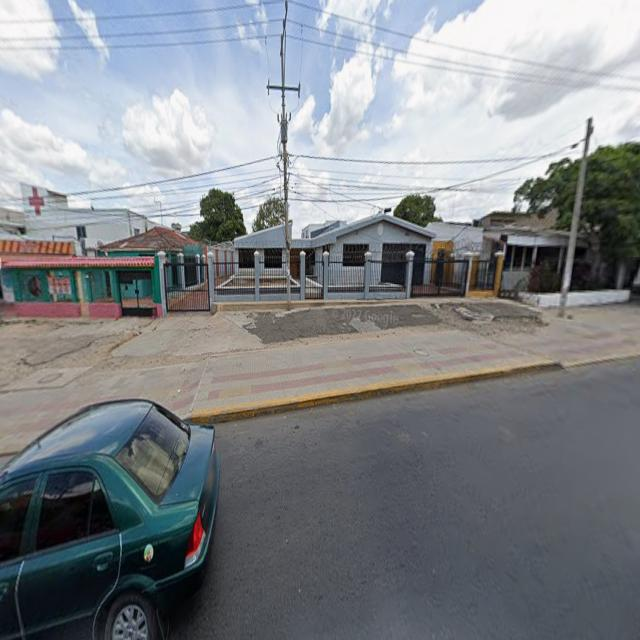Casa: (209, 213, 435, 301), (0, 227, 209, 318), (474, 210, 588, 306), (428, 223, 497, 294)
